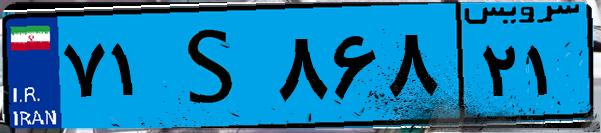1: (525, 38, 570, 115), (110, 28, 158, 98)
2: (475, 38, 525, 113)
6: (330, 28, 385, 110)
7: (57, 26, 110, 100)
8: (270, 28, 330, 110), (385, 28, 445, 110)
S: (158, 12, 270, 120)
